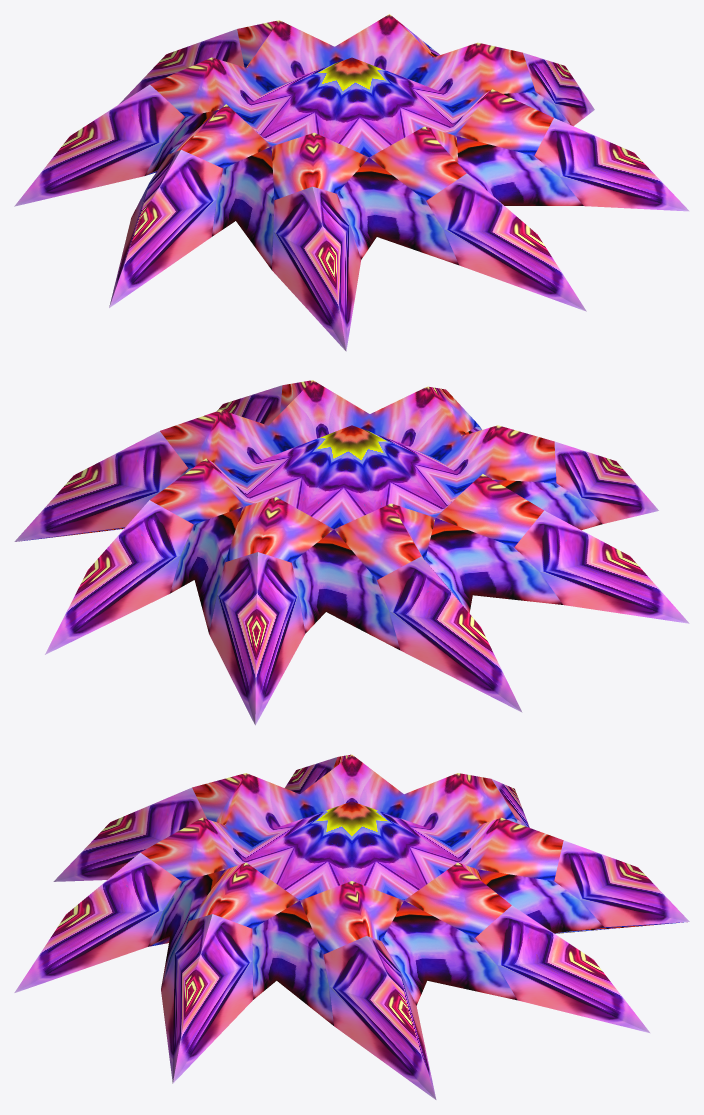
Rendered from ufo-02.fbx.
3 renders of one model, top to bottom at view 1: azimuth 30°, elevation 25°; view 2: azimuth 150°, elevation 25°; view 3: azimuth 270°, elevation 25°, orthographic. The views are drawn at different scales.
Parts seen in each view (by area): view 1: ufo-02; view 2: ufo-02; view 3: ufo-02.
Part boxes in pixels (x1=…): ufo-02: x1=14, y1=14, x2=689, y2=351; ufo-02: x1=14, y1=380, x2=689, y2=725; ufo-02: x1=14, y1=754, x2=689, y2=1099.
Size of the model in its own units: 121 by 32.6 by 121.
